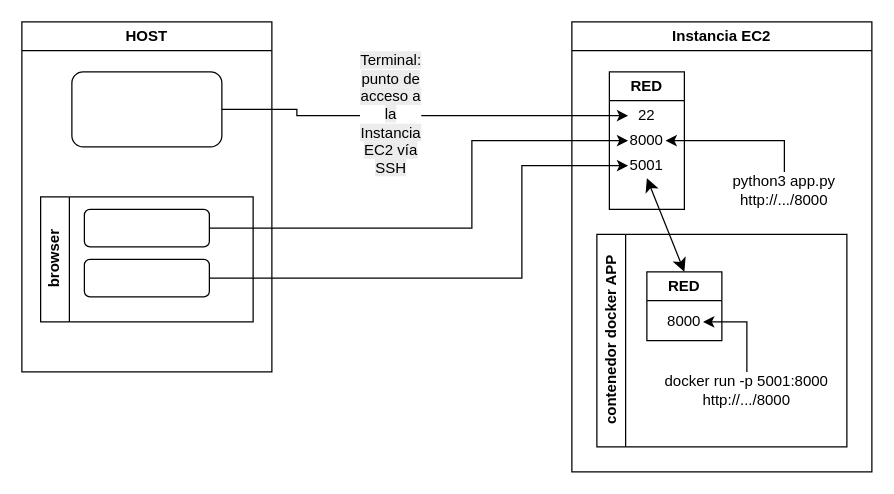
Some shapes in this 894 by 494 pixel diagram are drawn without their labels. The shapes that lost their labels are listed below. From the top down, each one's centre as x and y in pixels, then its label:
At pixel 146 109: "PuTTY 22".
At pixel 146 227: "http://.../8000".
At pixel 146 277: "http://.../5001".
